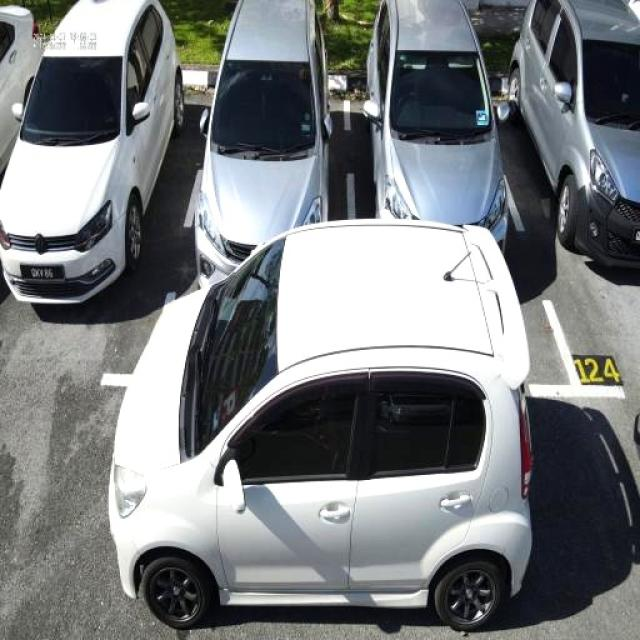Legalparking: (0, 0, 184, 301), (195, 0, 331, 281), (364, 0, 506, 250), (508, 0, 639, 266)
illegalparking: (109, 219, 531, 631)
